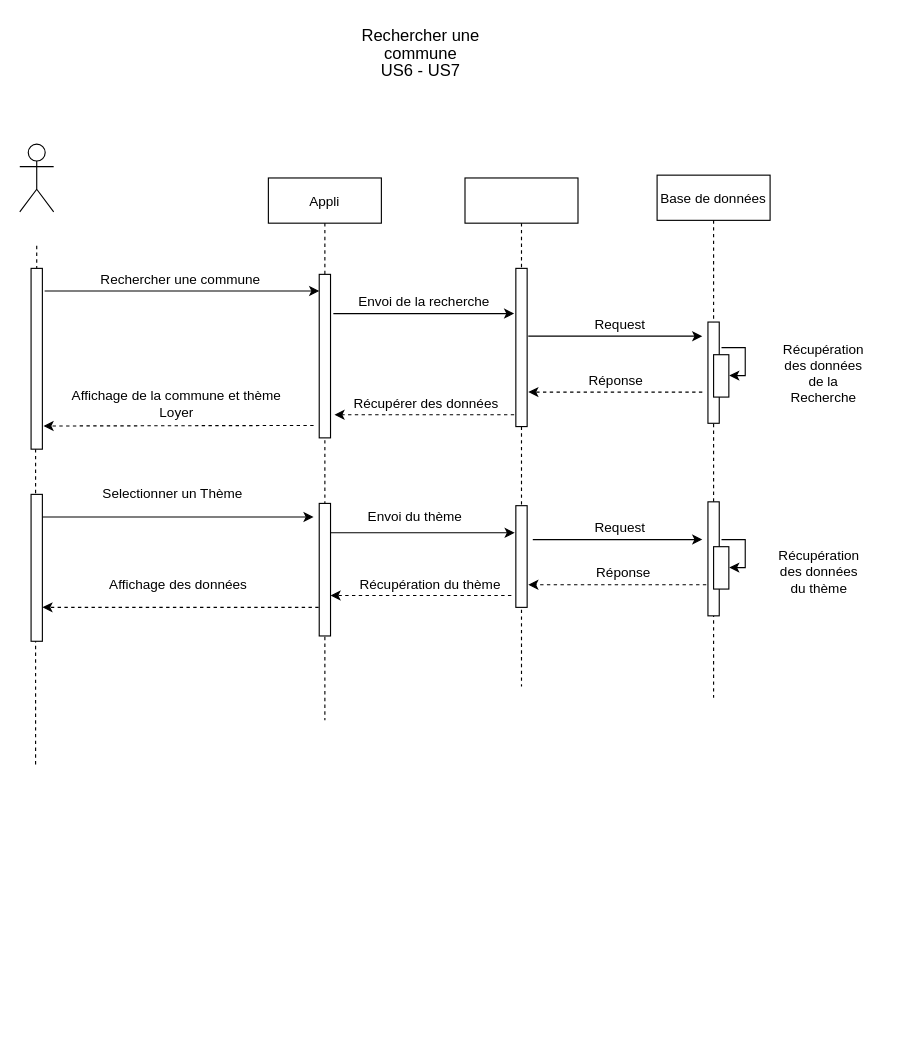
This 897x1044 diagram has some shape labels left out. Here are the shapes that lost their labels. From the top down, the centre of each, then its label:
At (36,177): "User".
At (521,431): "Serveur".
